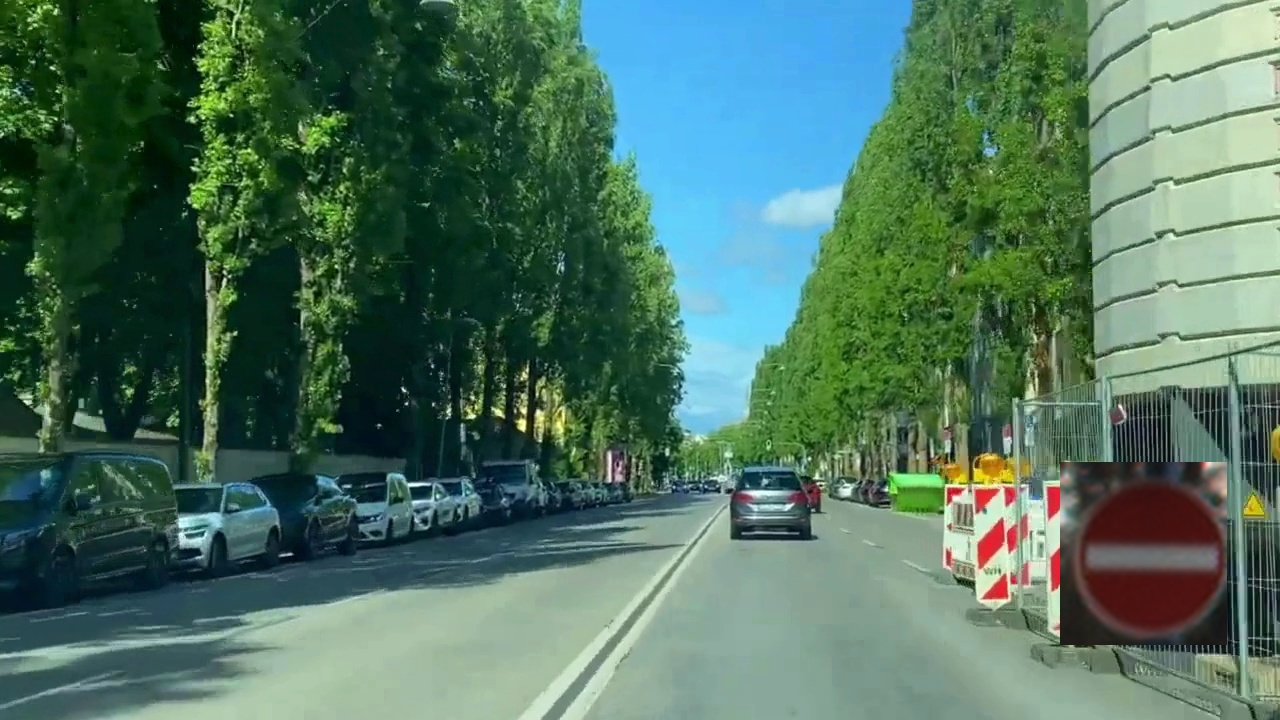No entry: (1060, 462, 1227, 645)
